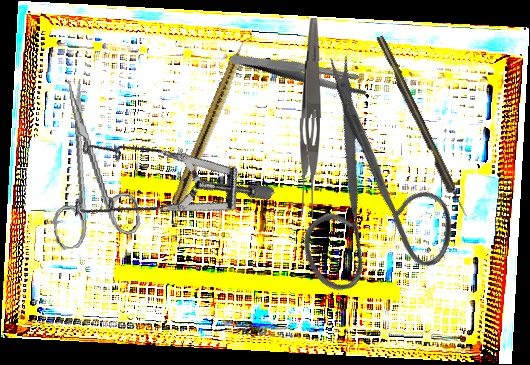Dressing Forceps: (228, 20, 372, 124), (296, 17, 323, 219)
Handpiece: (171, 32, 254, 209)
Hook Surgical: (375, 34, 469, 219)
Iris Scissors: (213, 43, 506, 334), (34, 73, 143, 251)
Speculum: (44, 78, 277, 305)
